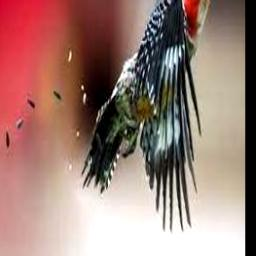Woodpecker: (82, 0, 224, 232)
